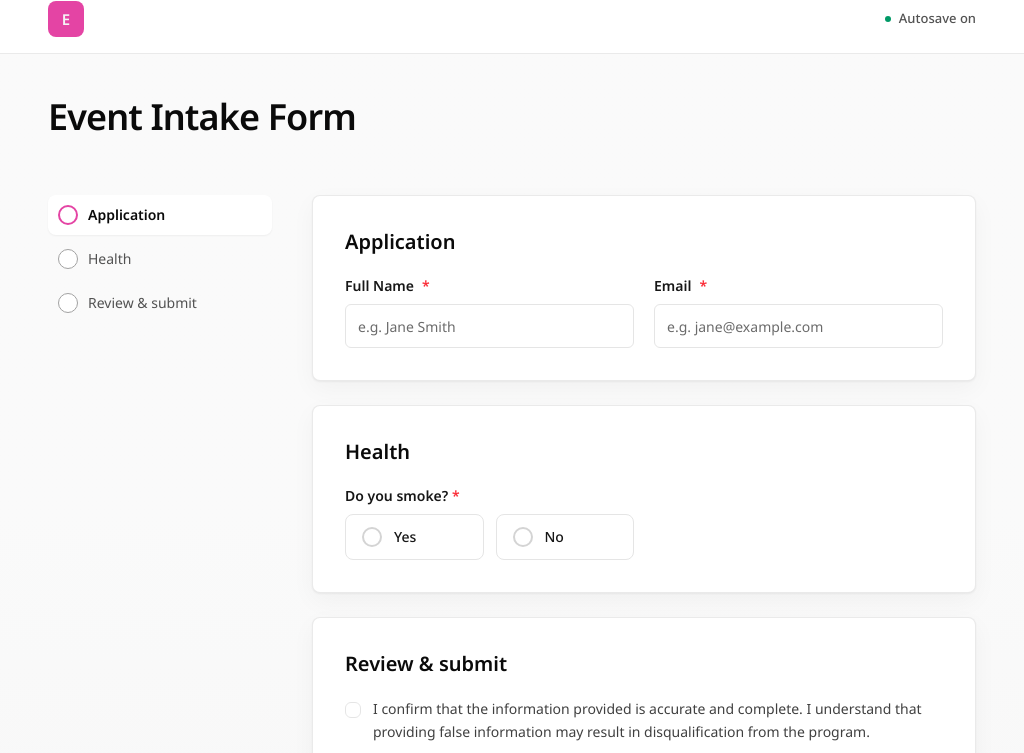
it: Shared Intake Public Page › marks every invalid field across sections on submit and focuses the first one
Expected: the heading "Event Intake Form" is shown, [48,92,356,141]
Type "not-an-email" into the field labelled "Email *" at (798, 326), box [654,304,943,348]
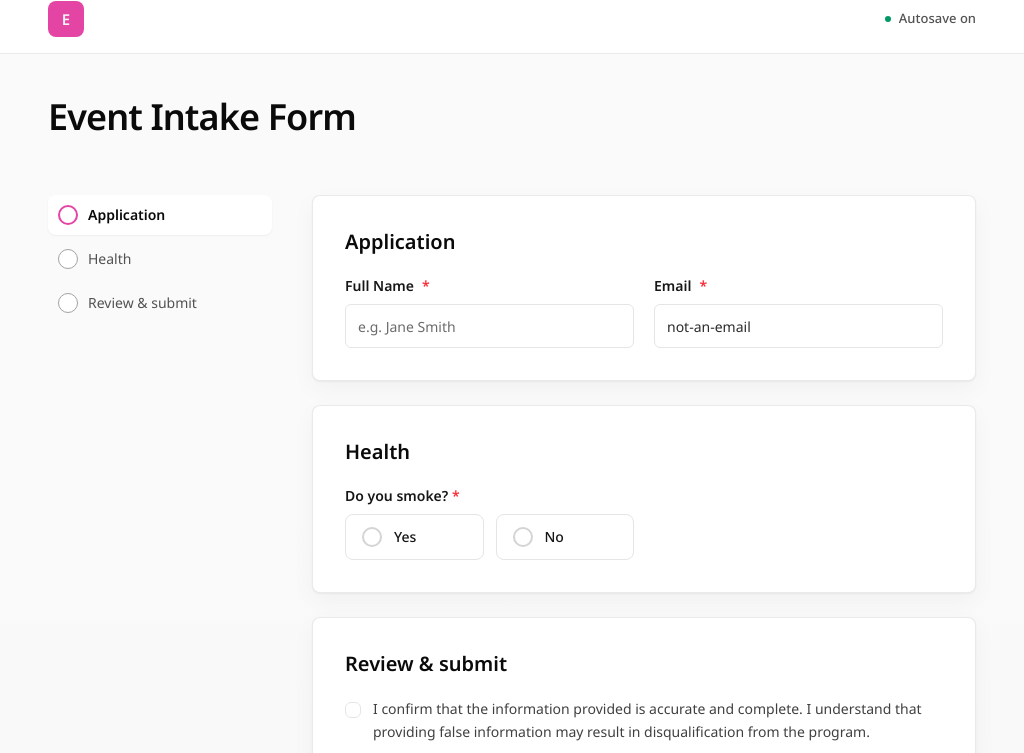
Click the checkbox named "information provided is accurate" at (353, 710), box [345,702,361,718]
(page scrolled)
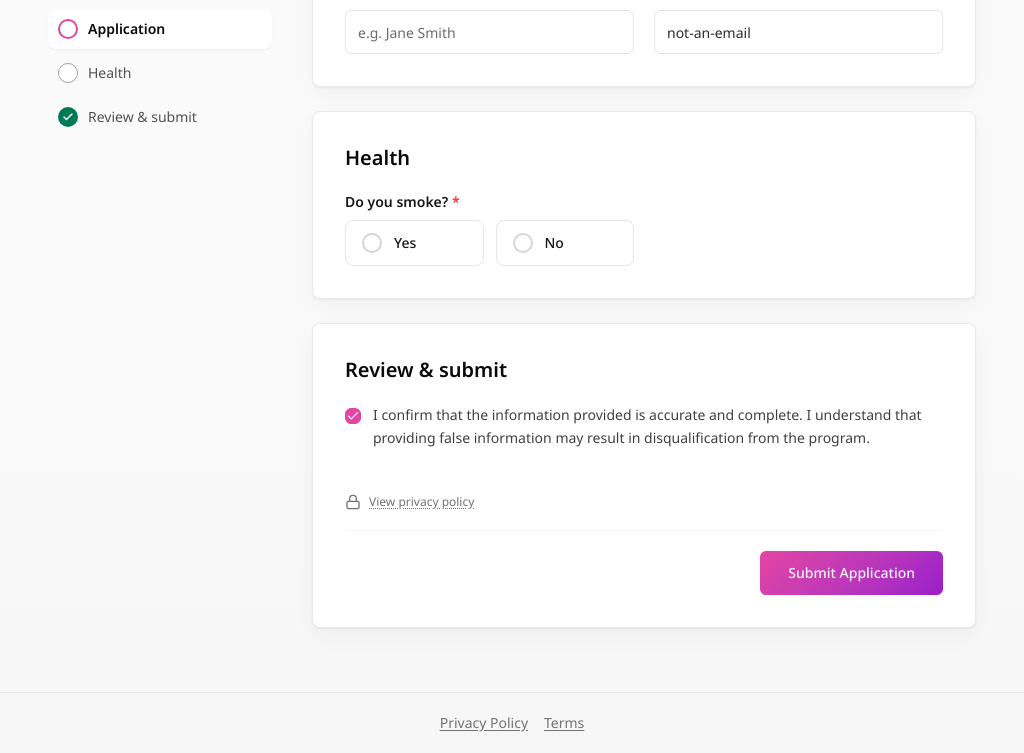
Click the button "Submit Application" at (852, 572), box [760,550,943,594]
(page scrolled)
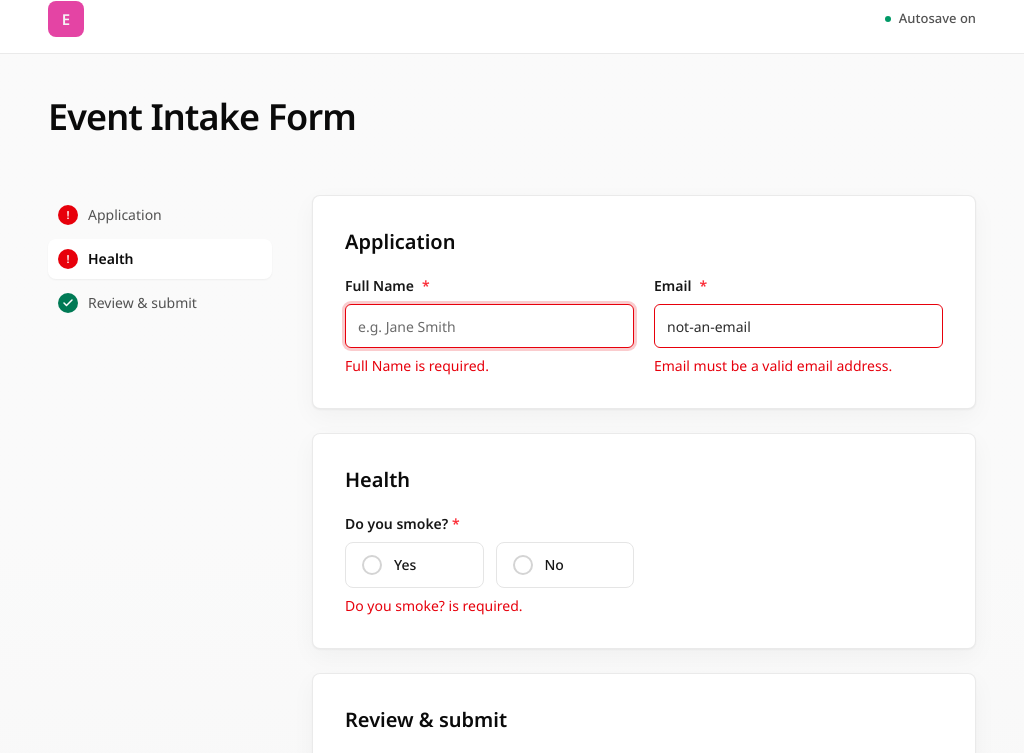
Expected: the link named "Application, Needs attention" is shown, [57,205,170,234]
Expected: the field labelled "Full Name *" is marked as invalid
Type "Jane Applicant" into the field labelled "Full Name *" at (490, 326), box [345,304,634,348]
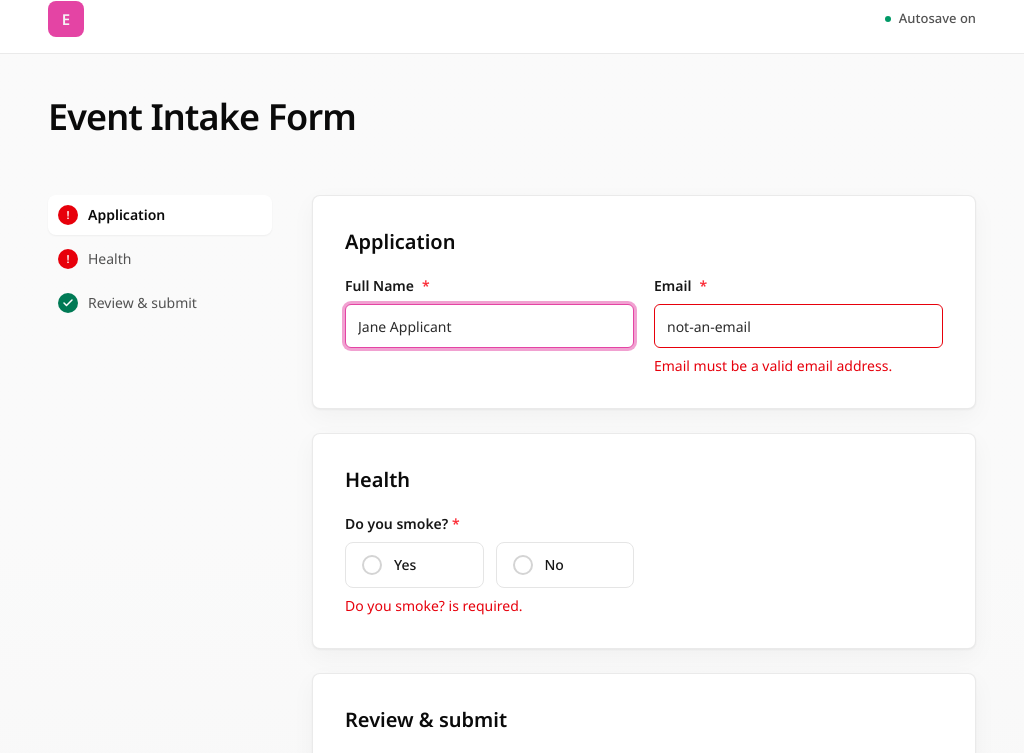
Expected: the text "Full Name is required." is gone
